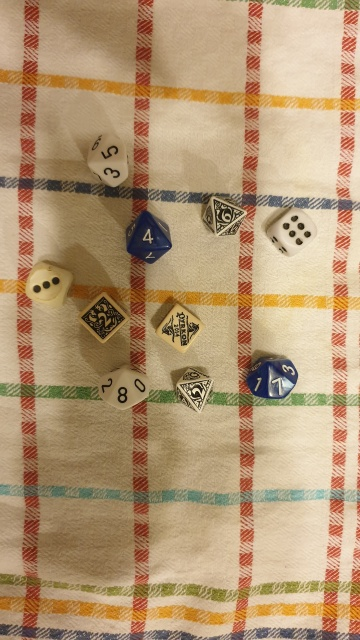d10-4: (117, 204, 177, 272)
d10-5: (81, 125, 136, 193)
d10-7: (240, 344, 302, 410)
d10-8: (88, 358, 154, 418)
d6-3: (19, 256, 72, 310)
d6-6: (265, 204, 320, 258)
d6p-1: (152, 298, 210, 355)
d6p-2: (77, 291, 130, 344)
d8p-2: (169, 368, 218, 418)
d8p-6: (200, 190, 248, 242)
